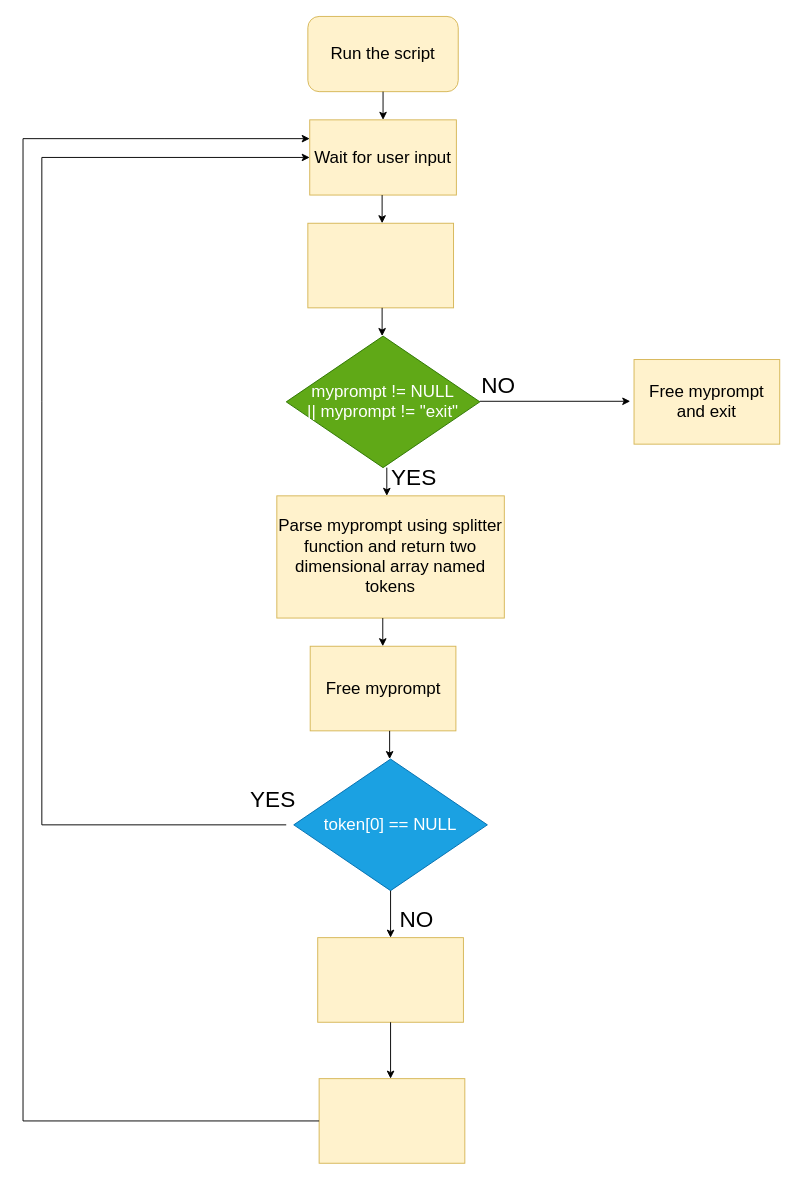
Some shapes in this 796 by 1180 pixel diagram are drawn without their labels. Each missing label, with the centre of its shape:
"execve(token[0], token, environ)" belongs at [391,1120].
"pid = fork()" belongs at [390,979].
"Read input and write it into char *myprompt" belongs at [380,265].
